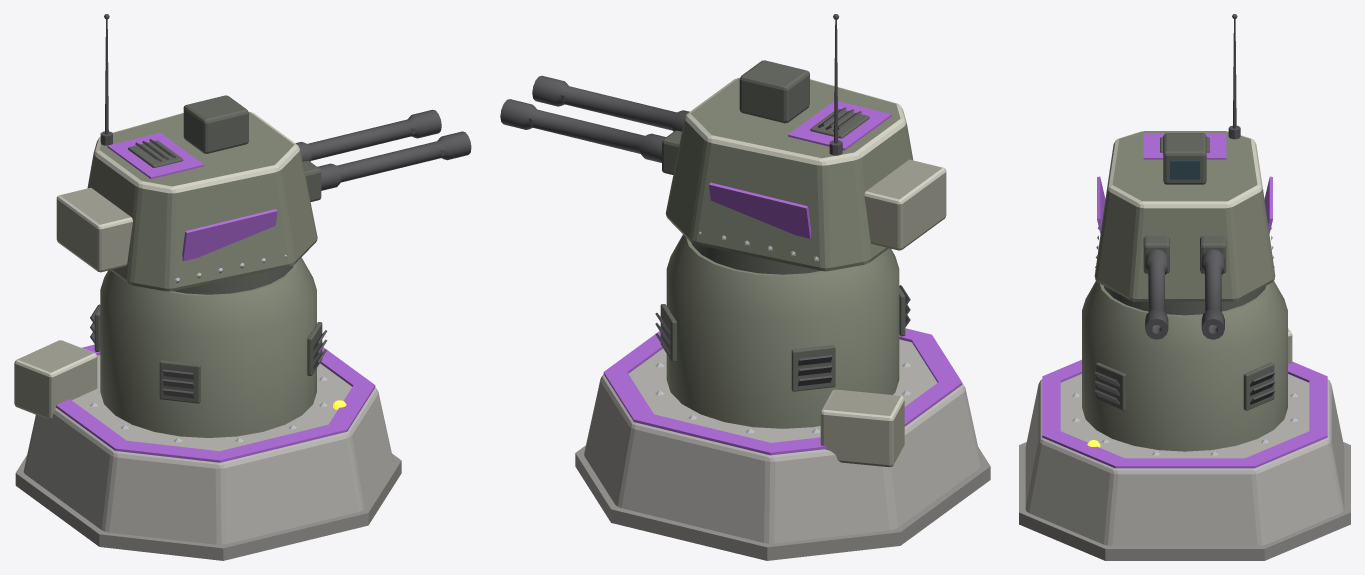
The model's file is gun_turret_purple.glb.
3 views of the same model, side by side, from view 1: azimuth 30°, elevation 25°; view 2: azimuth 150°, elevation 25°; view 3: azimuth 270°, elevation 25° (orthographic). The views are drawn at different scales.
Visible parts, largest first — view 1: Body, Turret, Barrel; view 2: Body, Turret, Barrel; view 3: Body, Turret, Barrel.
Boxes of the visible parts, bbox=[...] form: Body: bbox=[14, 257, 401, 560]; Turret: bbox=[56, 14, 321, 294]; Barrel: bbox=[295, 109, 471, 190]; Body: bbox=[575, 235, 990, 560]; Turret: bbox=[662, 14, 946, 274]; Barrel: bbox=[500, 75, 689, 162]; Body: bbox=[1019, 281, 1350, 560]; Turret: bbox=[1094, 14, 1275, 315]; Barrel: bbox=[1145, 249, 1224, 339].
Size of the model in its own units: 2.6 by 2.94 by 2.
1 material, 1 textured.
